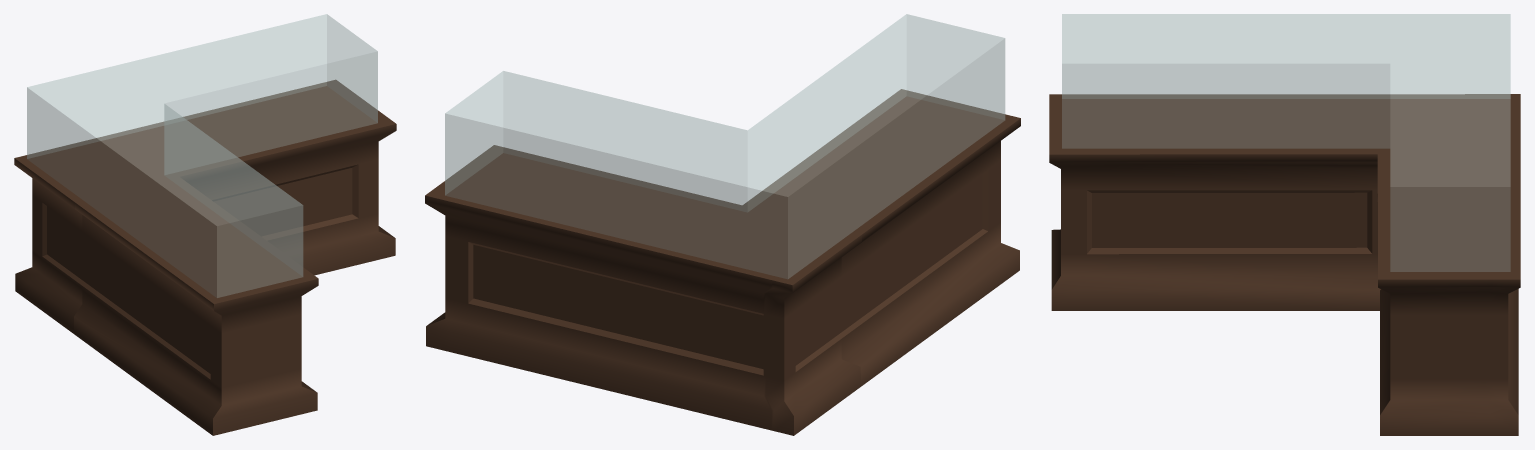
The model's file is DisplayCaseLLambert.fbx.
3 views of the same model, side by side, from view 1: azimuth 30°, elevation 25°; view 2: azimuth 150°, elevation 25°; view 3: azimuth 270°, elevation 25° (orthographic). The views are drawn at different scales.
Visible parts, largest first — view 1: pasted__pCube1, pasted__pCube2; view 2: pasted__pCube1, pasted__pCube2; view 3: pasted__pCube1, pasted__pCube2.
Part boxes in pixels (x1,y1,x2,y2): pasted__pCube1: (14, 80, 396, 435); pasted__pCube2: (27, 14, 377, 297); pasted__pCube1: (425, 89, 1020, 435); pasted__pCube2: (445, 14, 1005, 278); pasted__pCube1: (1049, 94, 1520, 435); pasted__pCube2: (1062, 14, 1510, 271).
Size of the model in its own units: 10.19 by 6.19 by 10.96.
